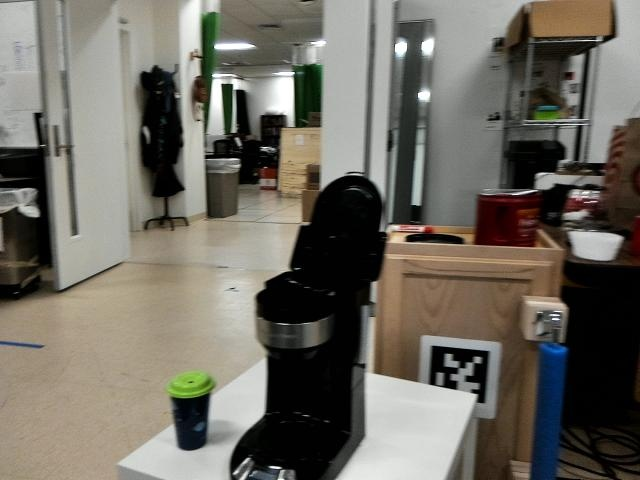noodle_handle: (518, 328, 576, 480)
useless_cup: (165, 368, 218, 456)
